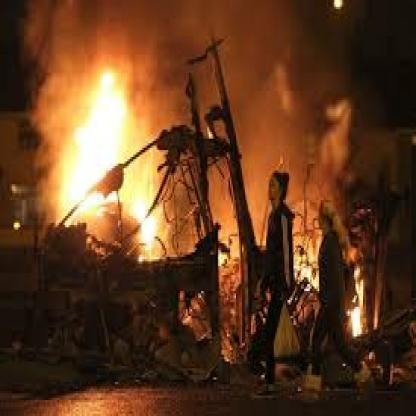fire: (46, 44, 215, 348)
